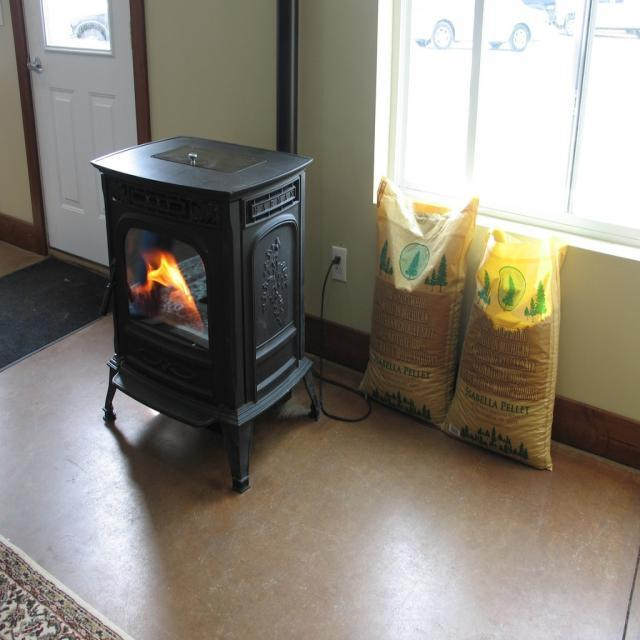Fire: (133, 249, 205, 337)
